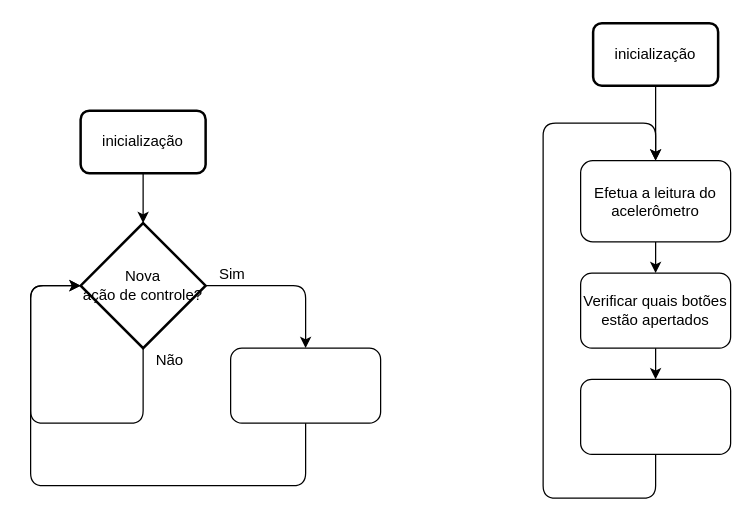
This 753x530 diagram has some shape labels left out. The box of each missing label's shape, as (x1, y1, x2, y2) in pixels:
Atualizar valores de dutycycle e spin: (229, 347, 381, 423)
publicar valores lidos: (579, 378, 731, 454)
